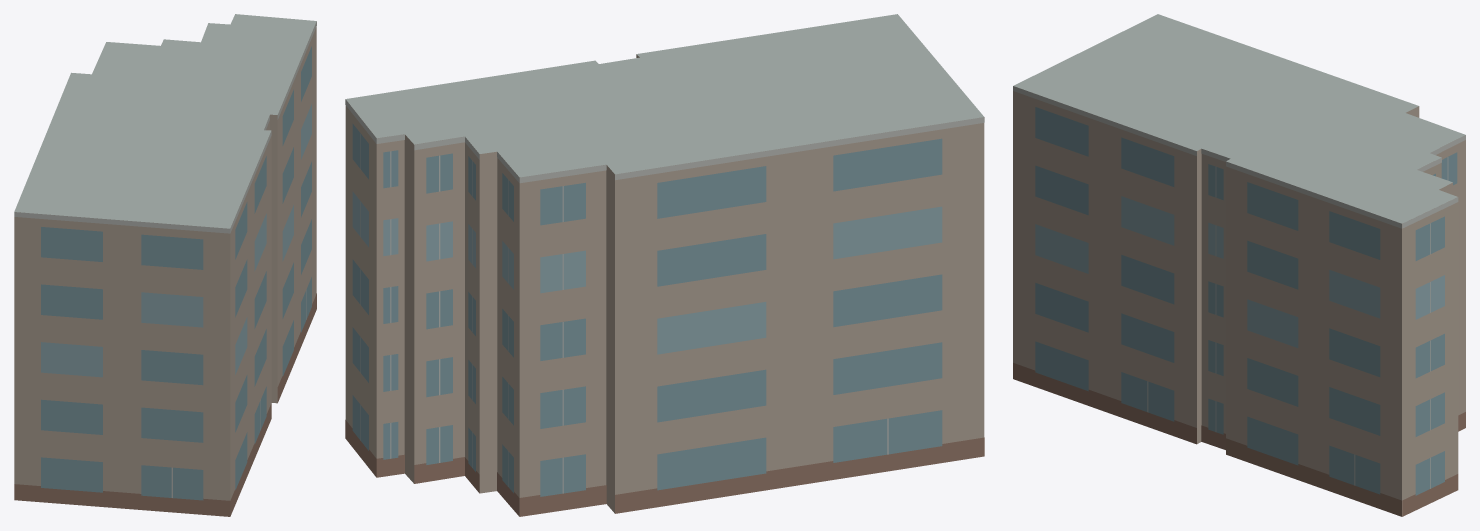
The model's file is survey-upis-32884430.glb.
The picture shows the model from 3 angles, left to right: view 1: azimuth 30°, elevation 25°; view 2: azimuth 150°, elevation 25°; view 3: azimuth 270°, elevation 25°; orthographic projection. The views are drawn at different scales.
Parts seen in each view (by area): view 1: survey-upis-32884430.tmp; view 2: survey-upis-32884430.tmp; view 3: survey-upis-32884430.tmp.
Part boxes in pixels (<box>): survey-upis-32884430.tmp: <box>14,14,316,516</box>; survey-upis-32884430.tmp: <box>345,14,984,516</box>; survey-upis-32884430.tmp: <box>1013,14,1465,516</box>.
Size of the model in its own units: 21.95 by 14.3 by 20.02.
